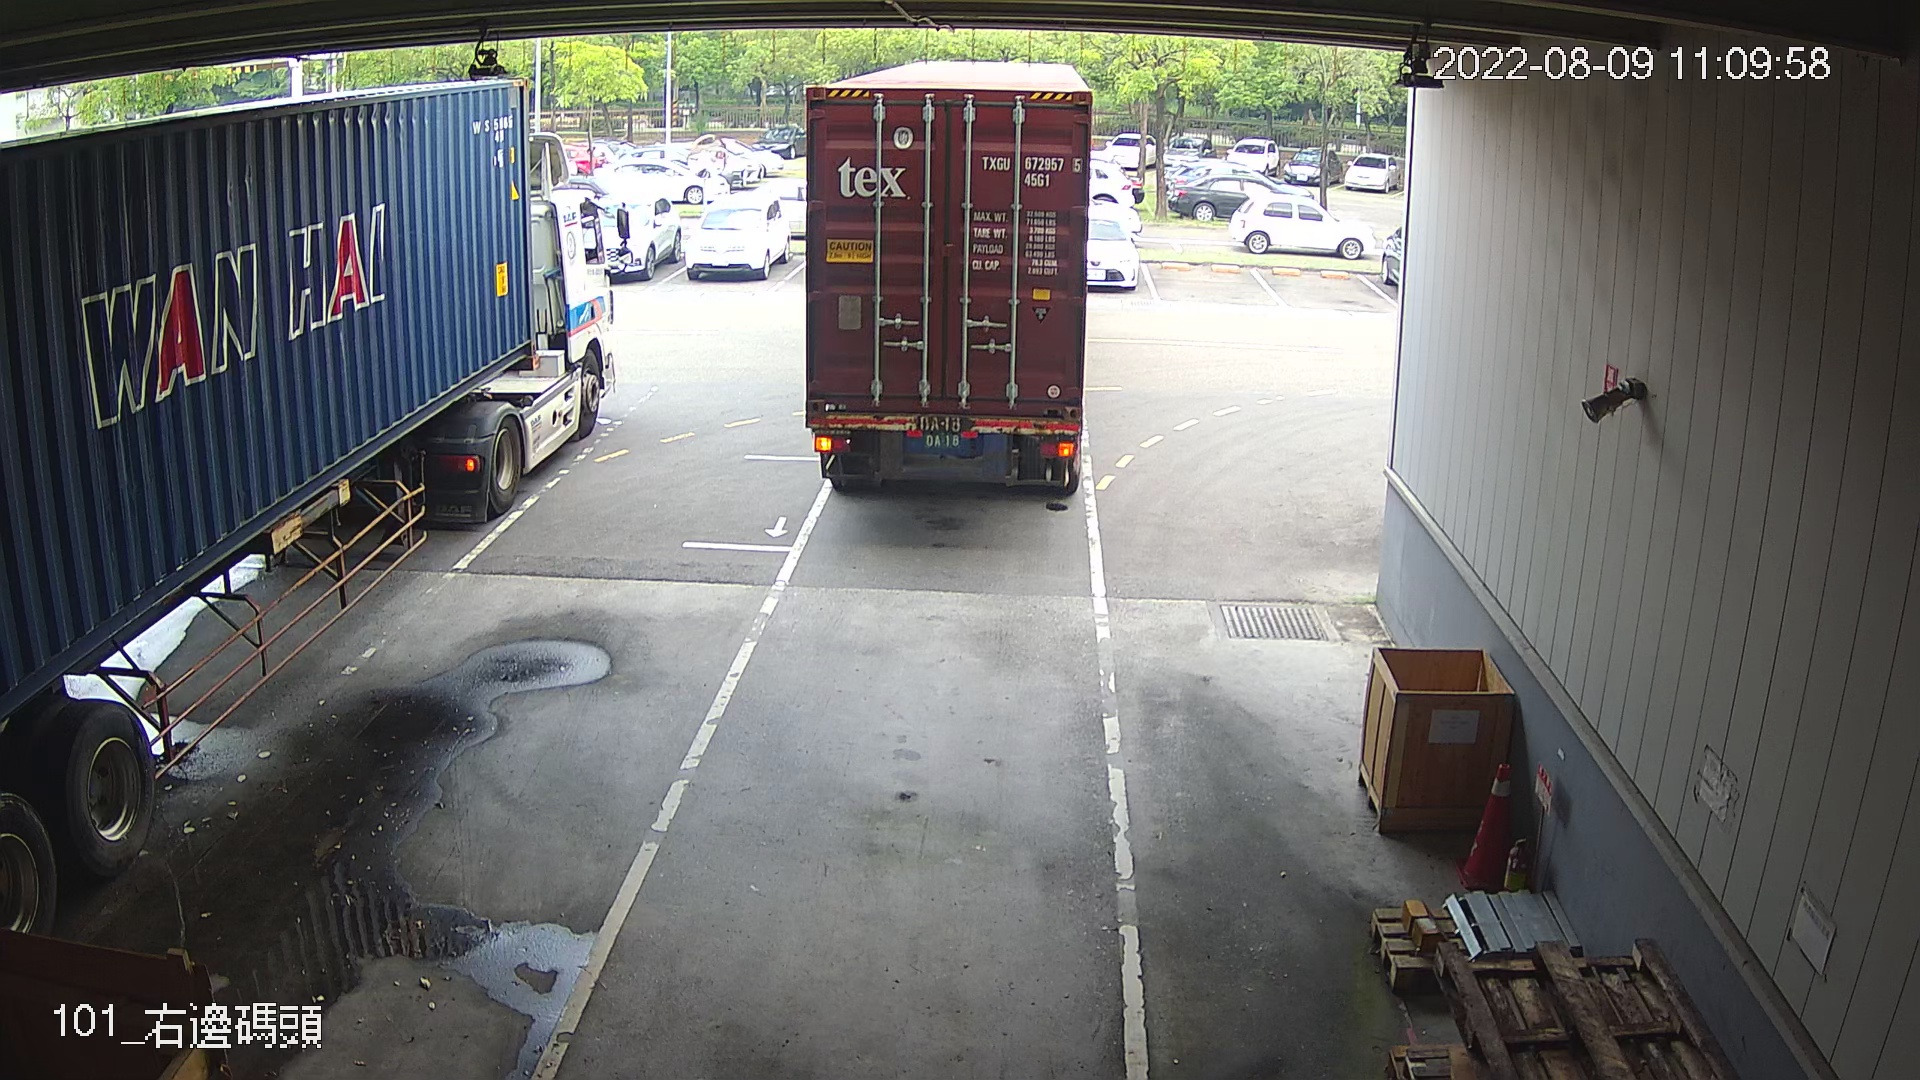container: (976, 148, 1085, 195)
